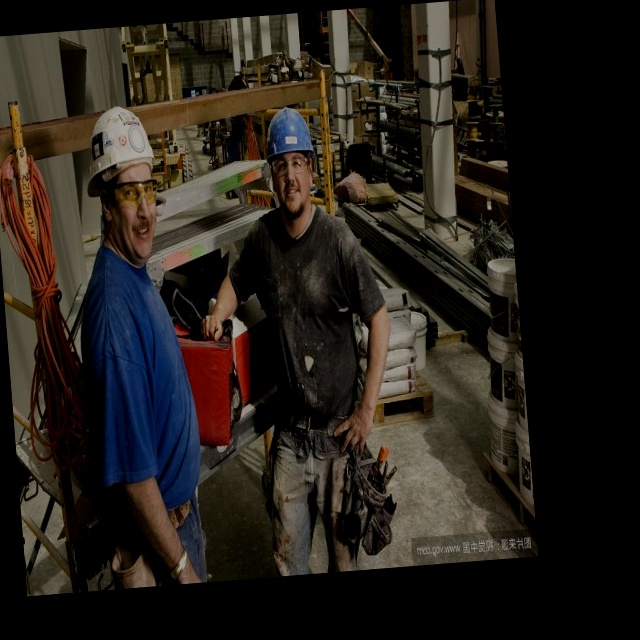Con_Casco: (82, 107, 160, 250), (262, 106, 318, 211)
Sin_Chaleco: (76, 268, 205, 524), (253, 209, 359, 426)
